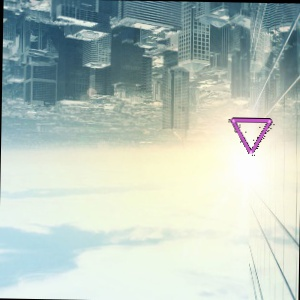triangle: (227, 115, 276, 157)
